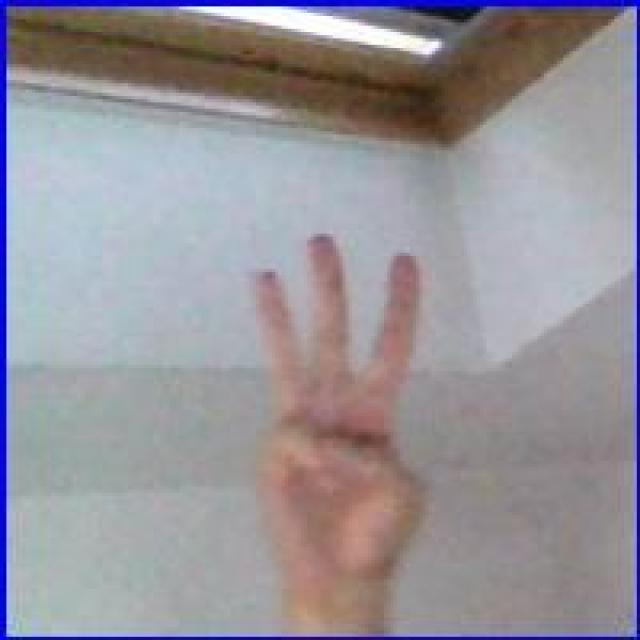W: (243, 230, 442, 614)
